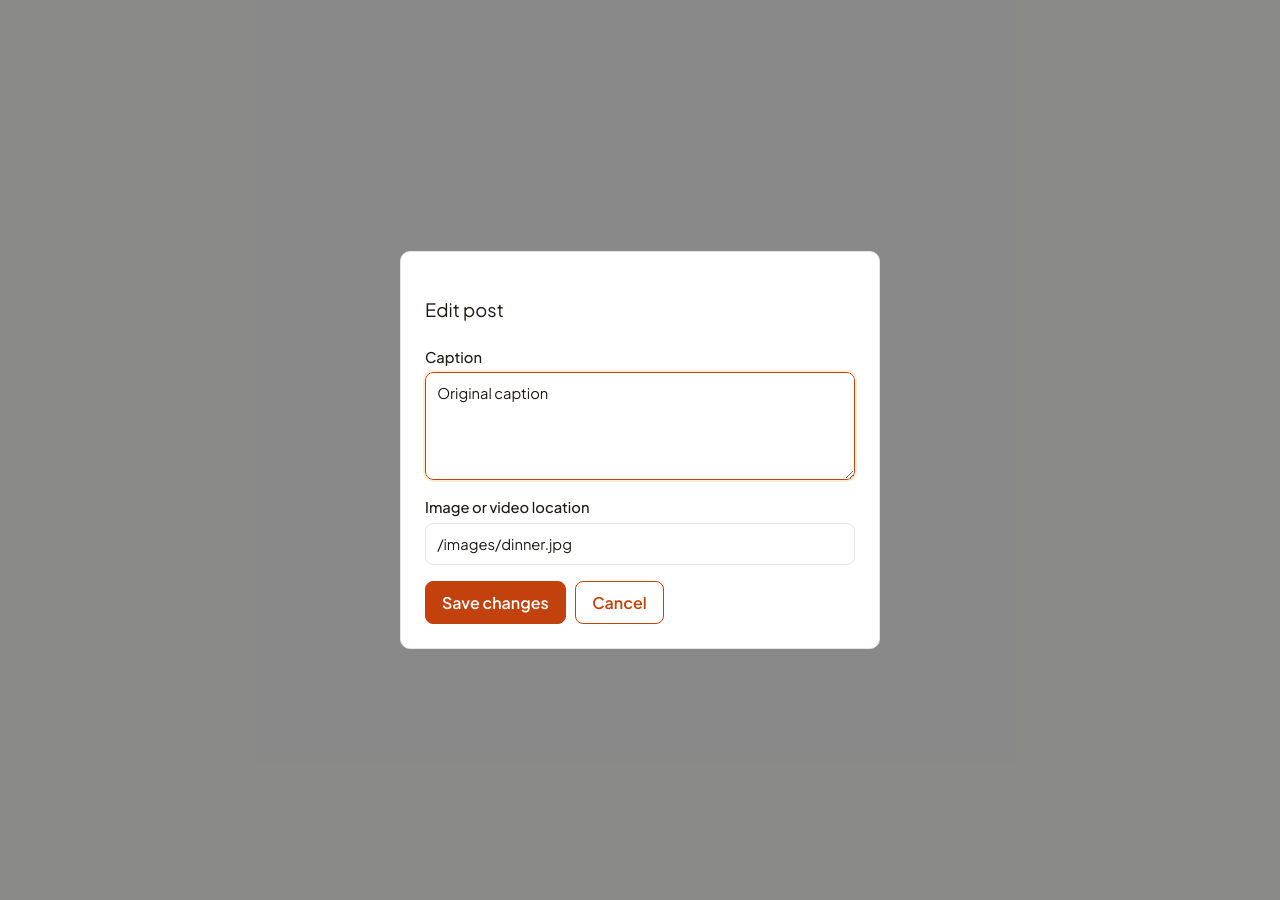
Scenario: blocks duplicate submissions during a pending save
Double-click the button "Save changes" at {"x": 495, "y": 603}, box [425,581,566,624]
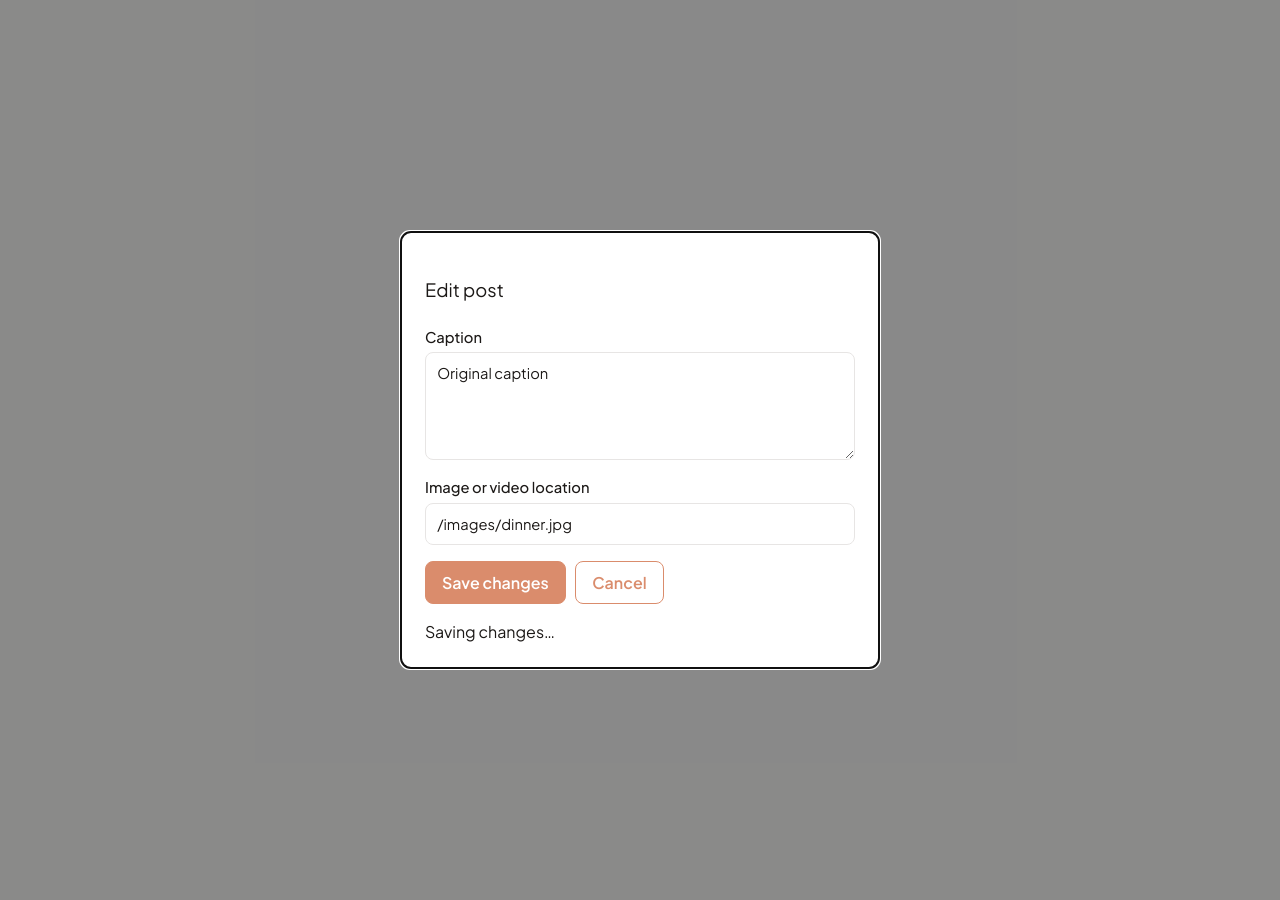
Check: the button "Save changes" is disabled, box [425,561,566,604]
Check: the button "Cancel" is disabled, box [575,561,664,604]
